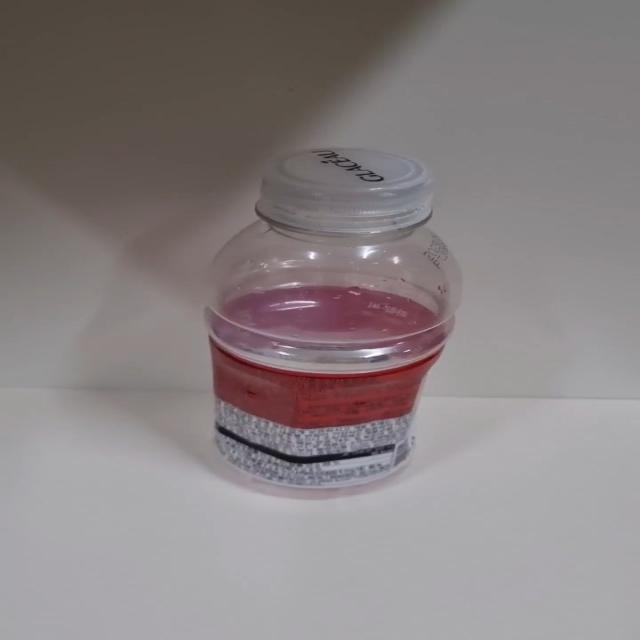Plastic: (203, 147, 465, 500)
